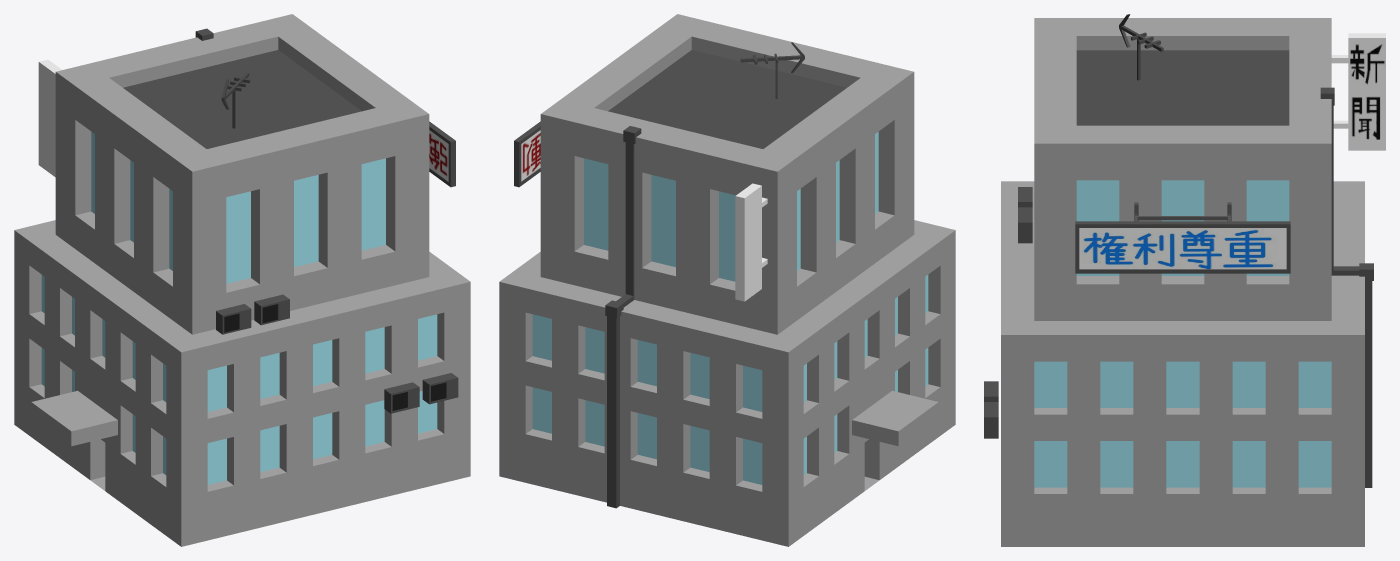
File: mathmedia.fbx
3 renders of one model, left to right at view 1: azimuth 30°, elevation 25°; view 2: azimuth 150°, elevation 25°; view 3: azimuth 270°, elevation 25°, orthographic. The views are drawn at different scales.
Visible parts, largest first — view 1: mathmedia, sign; view 2: mathmedia, sign; view 3: mathmedia, sign.
Boxes of the visible parts, bbox=[...] form: mathmedia: bbox=[14, 14, 470, 546]; sign: bbox=[429, 121, 455, 187]; mathmedia: bbox=[499, 14, 955, 546]; sign: bbox=[514, 121, 540, 187]; mathmedia: bbox=[984, 14, 1385, 546]; sign: bbox=[1075, 221, 1290, 273].
Bounding box in the file's own units: 454 × 505 × 542.
